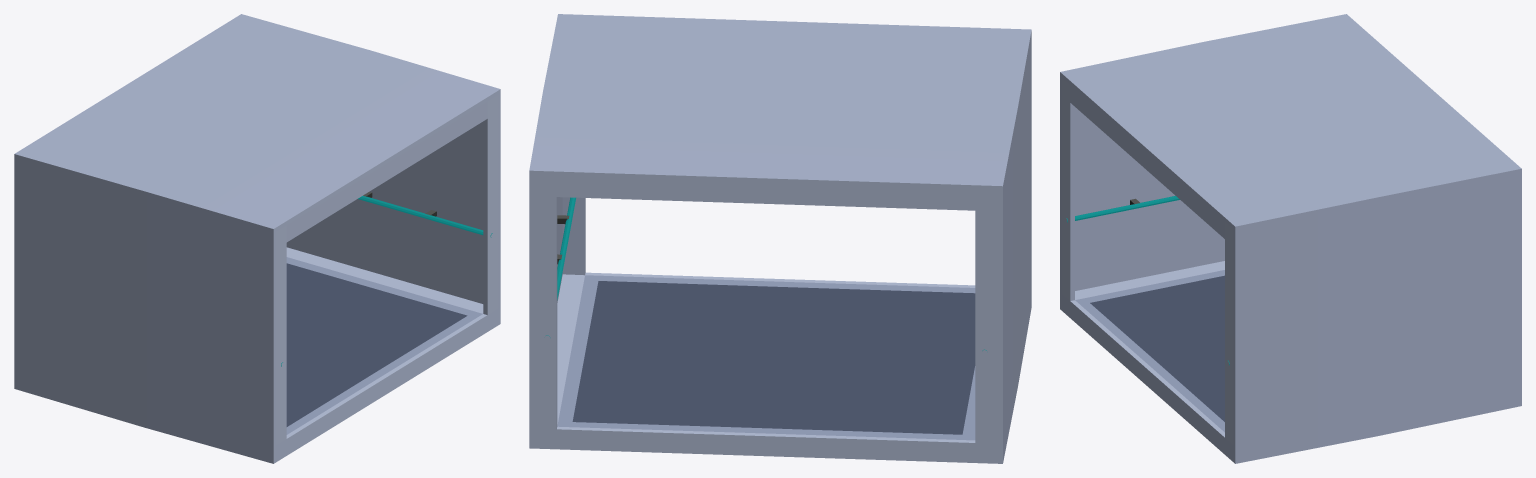
Rendered from Lift.glb.
3 renders of one model, left to right at view 1: azimuth 30°, elevation 25°; view 2: azimuth 150°, elevation 25°; view 3: azimuth 270°, elevation 25°, orthographic. The views are drawn at different scales.
Visible parts, largest first — view 1: Lift; view 2: Lift; view 3: Lift.
Boxes of the visible parts, box(x1,y1,x2,y2) form: Lift: box(14, 14, 500, 463); Lift: box(529, 14, 1031, 463); Lift: box(1060, 14, 1521, 463).
Size of what is drawn, in the model's own units: 6.34 by 3.32 by 5.82.
Materials: 1 (1 with a texture image).
